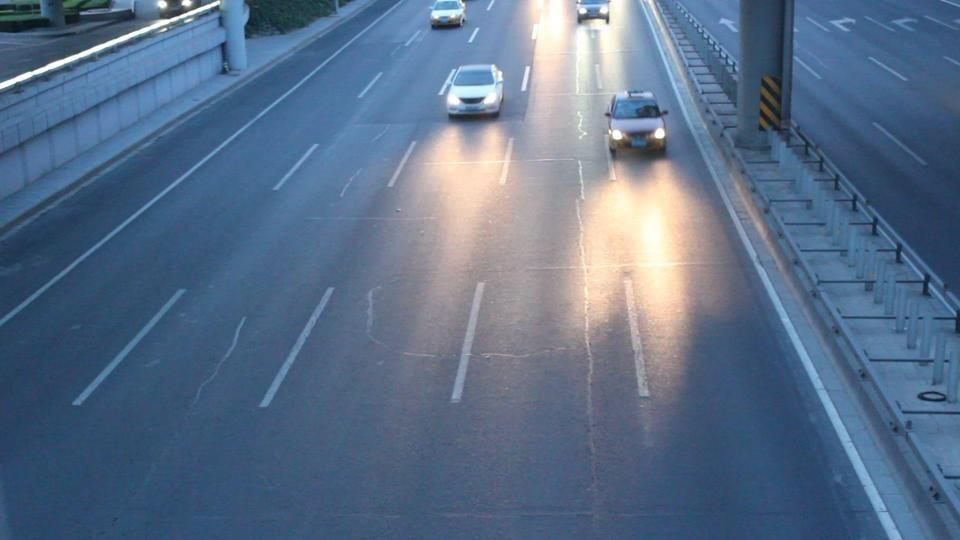car: (604, 90, 669, 153), (443, 64, 506, 121), (429, 0, 466, 28), (576, 1, 611, 24)
